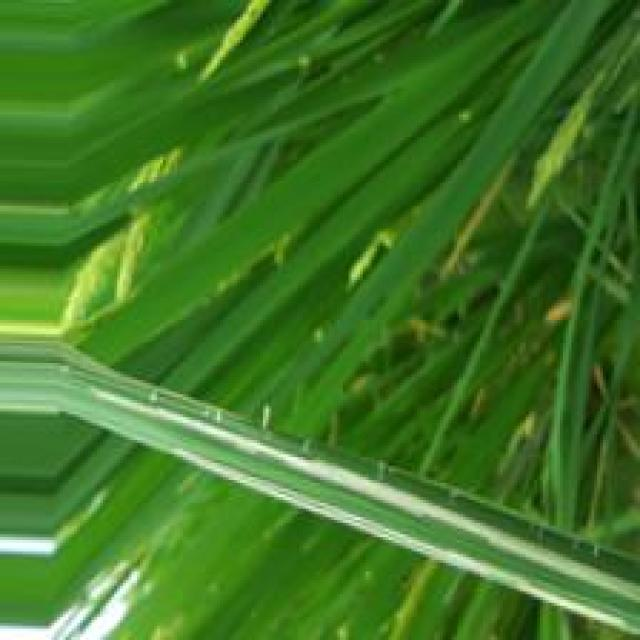Rice_Hispa: (182, 449, 640, 636), (150, 415, 630, 593)
